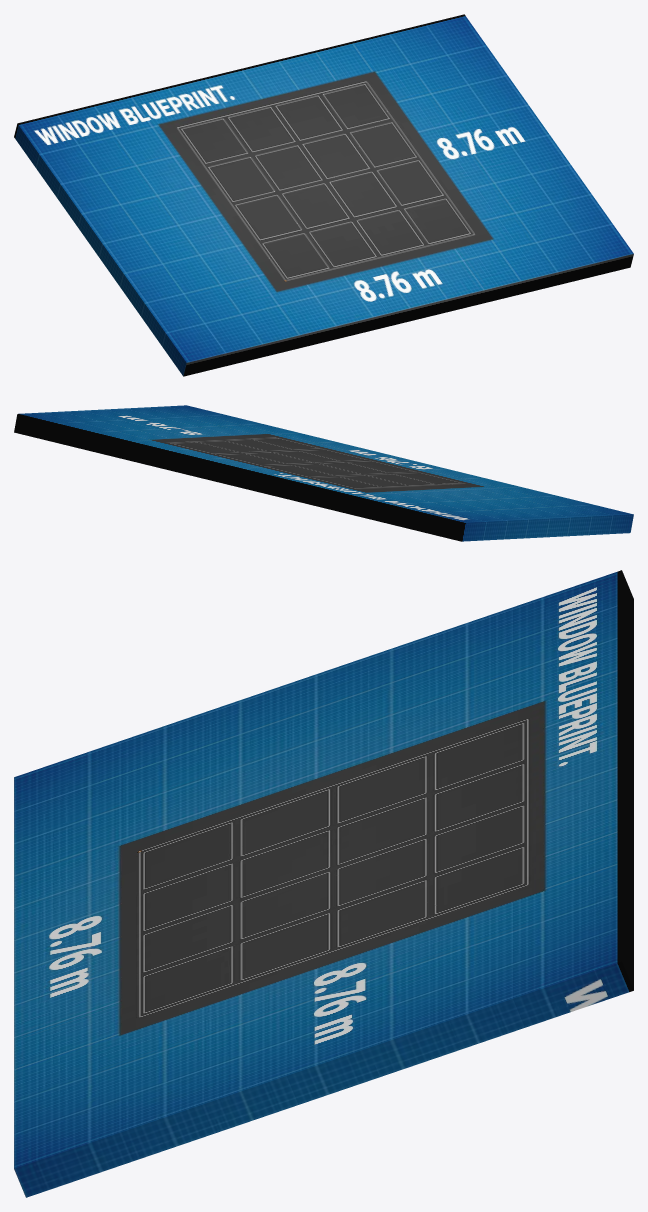
The model's file is WindowBlueprint-transformed.glb.
The picture shows the model from 3 angles, top to bottom: view 1: azimuth 30°, elevation 25°; view 2: azimuth 150°, elevation 25°; view 3: azimuth 270°, elevation 25°; orthographic projection. The views are drawn at different scales.
Visible parts, largest first — view 1: WindowBlueprint; view 2: WindowBlueprint; view 3: WindowBlueprint.
Part boxes in pixels (x1,y1,x2,y2): WindowBlueprint: (14,14,633,376); WindowBlueprint: (14,405,633,541); WindowBlueprint: (14,570,633,1197).
Bounding box in the file's own units: 2.59 × 0.7286 × 1.73.
Materials: 1 (1 with a texture image).
